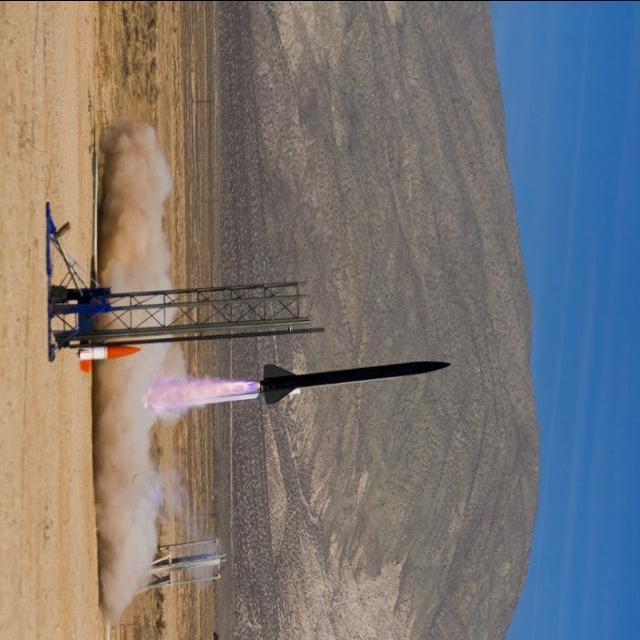missile: (256, 353, 456, 397)
